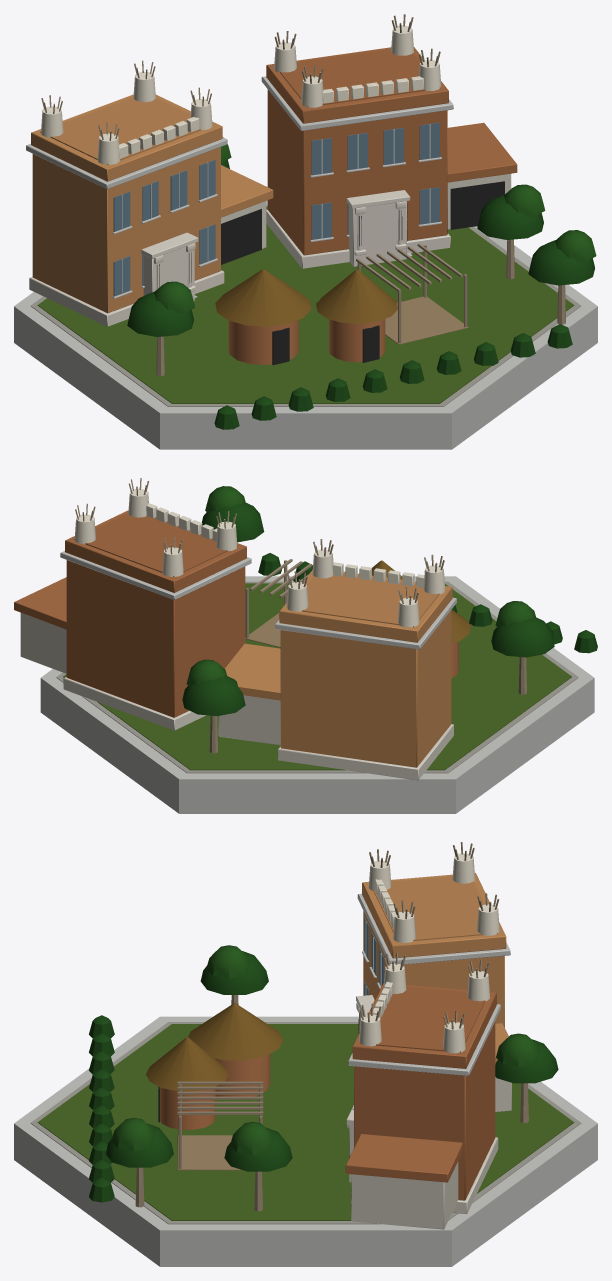
Rendered from luxuryVillas_africa.glb.
The picture shows the model from 3 angles, top to bottom: view 1: azimuth 30°, elevation 25°; view 2: azimuth 150°, elevation 25°; view 3: azimuth 270°, elevation 25°; orthographic projection. The views are drawn at different scales.
Parts seen in each view (by area): view 1: plaster, turf, wall_concrete, leaf, wood, stone, glass, dark, pavers, cladding; view 2: plaster, wall_concrete, turf, leaf, cladding, stone, wood, pavers; view 3: plaster, turf, wall_concrete, leaf, wood, cladding, pavers, stone, glass.
Boxes of the visible parts, x1,y1,x2,y2 form: plaster: (31,25,517,364); turf: (37,206,574,403); wall_concrete: (14,76,597,449); leaf: (127,137,596,429); wood: (41,14,565,376); stone: (29,190,450,326); glass: (113,122,439,296); dark: (157,181,504,365); pavers: (30,205,581,406); cladding: (221,173,511,248); plaster: (14,488,458,767); wall_concrete: (40,551,594,813); turf: (63,583,571,770); leaf: (182,486,597,716); cladding: (20,613,280,745); stone: (63,677,453,780); wood: (75,478,526,753); pavers: (56,581,578,773); plaster: (160,853,508,1200); turf: (37,1024,574,1220); wall_concrete: (14,893,597,1266); leaf: (89,945,558,1202); wood: (135,842,528,1211); cladding: (351,1077,511,1229); pavers: (30,1022,581,1224); stone: (346,995,498,1213); glass: (364,917,384,995).
Size of the model in its own units: 22.78 by 10.61 by 24.6.
